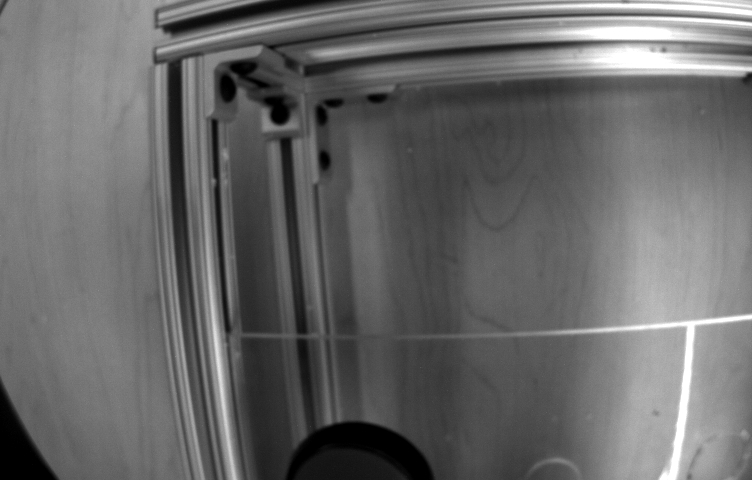big_red_button: (265, 395, 462, 480)
